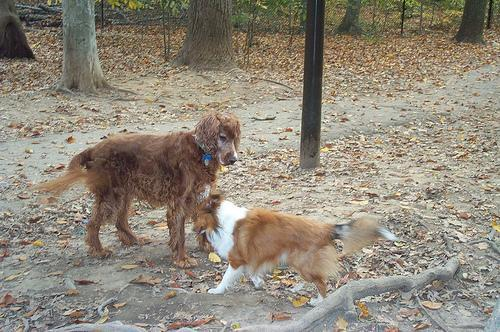Irish_setter: (30, 109, 242, 269), (188, 185, 400, 308)
